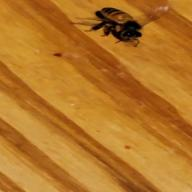Bee: (82, 0, 170, 47)
